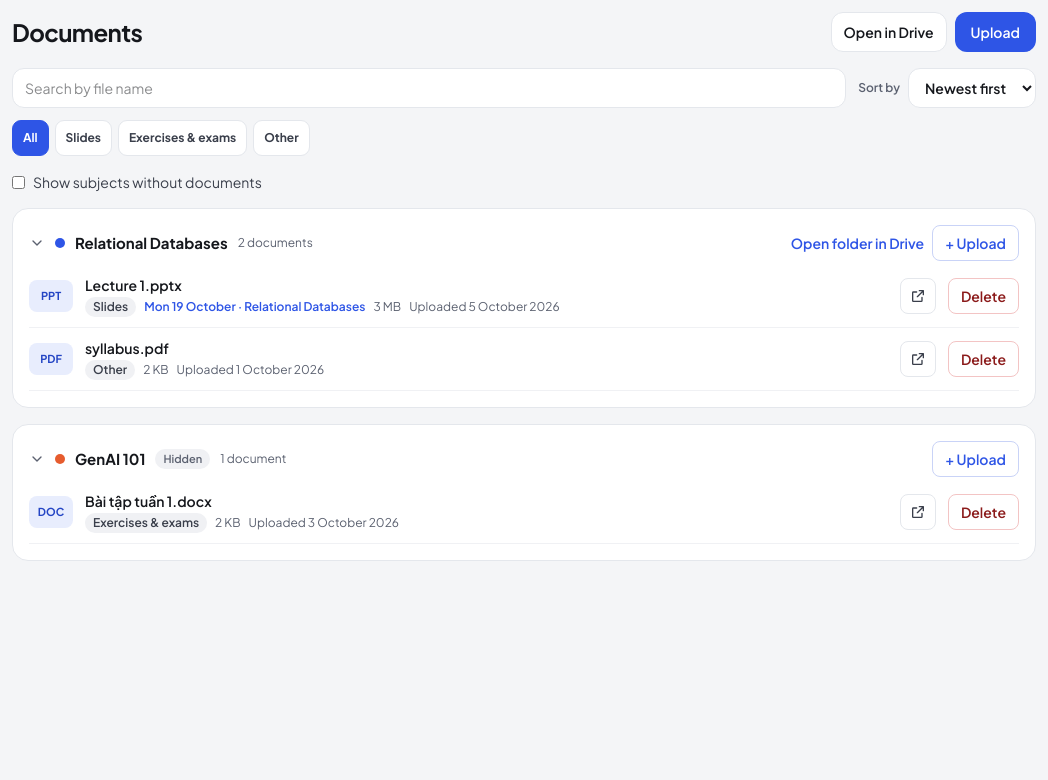
DocumentsPage › collapses a subject and remembers it
Click the button "Relational Databases 2 documents": (151, 242) [29,232,783,254]
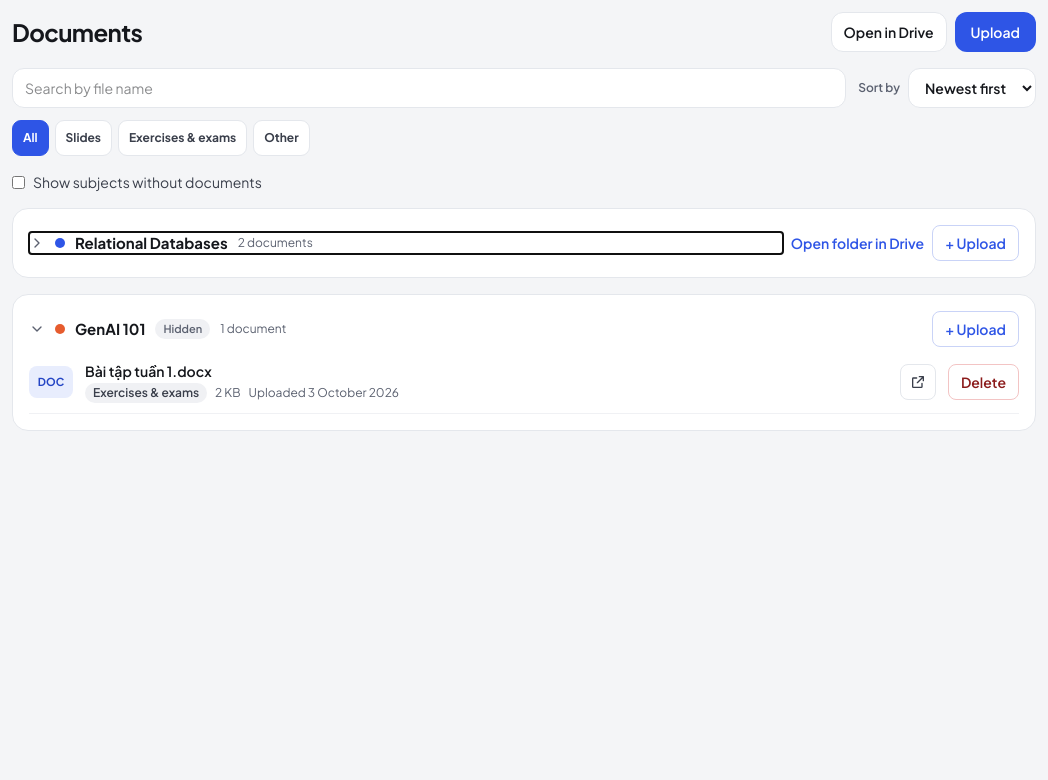
Expected: the button "Relational Databases 2 documents" is collapsed, [29,232,783,254]
Expected: the link "syllabus.pdf" is gone
